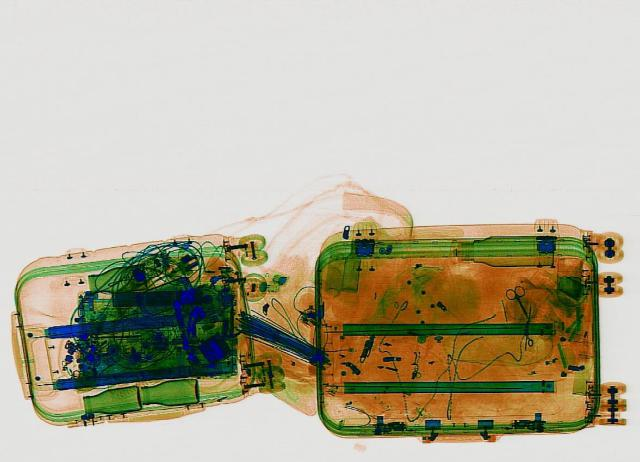Scissors: (499, 282, 538, 317)
